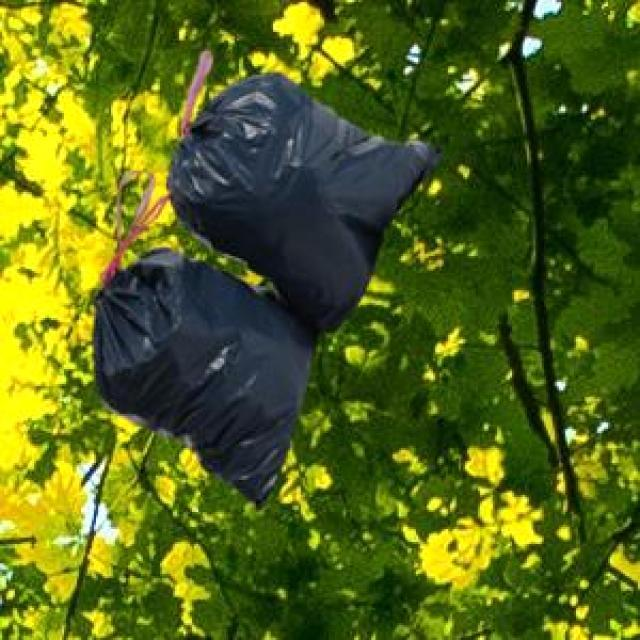Garbage_Bag: (90, 48, 440, 507)
